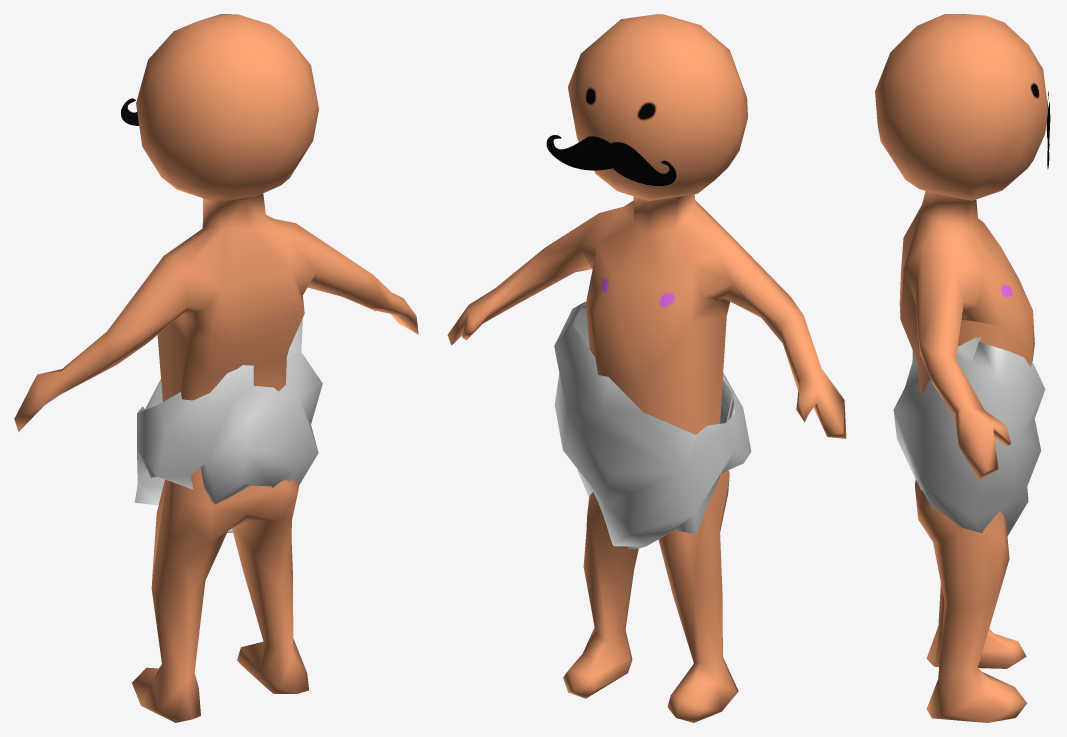
The model's file is NPC6.fbx.
The picture shows the model from 3 angles, left to right: view 1: azimuth 30°, elevation 25°; view 2: azimuth 150°, elevation 25°; view 3: azimuth 270°, elevation 25°; orthographic projection.
Parts seen in each view (by area): view 1: Stickman_heads_sphere, Bandage Sculpt_Part 2; view 2: Stickman_heads_sphere, Bandage Sculpt_Part 2, mustache; view 3: Stickman_heads_sphere, Bandage Sculpt_Part 2.
Boxes of the visible parts, bbox=[...] form: Stickman_heads_sphere: bbox=[14, 14, 418, 722]; Bandage Sculpt_Part 2: bbox=[134, 318, 322, 532]; Stickman_heads_sphere: bbox=[447, 14, 846, 722]; Bandage Sculpt_Part 2: bbox=[554, 301, 751, 551]; mustache: bbox=[546, 135, 676, 186]; Stickman_heads_sphere: bbox=[875, 14, 1047, 722]; Bandage Sculpt_Part 2: bbox=[893, 337, 1045, 536].
Size of the model in its own units: 122 by 196 by 47.6.
